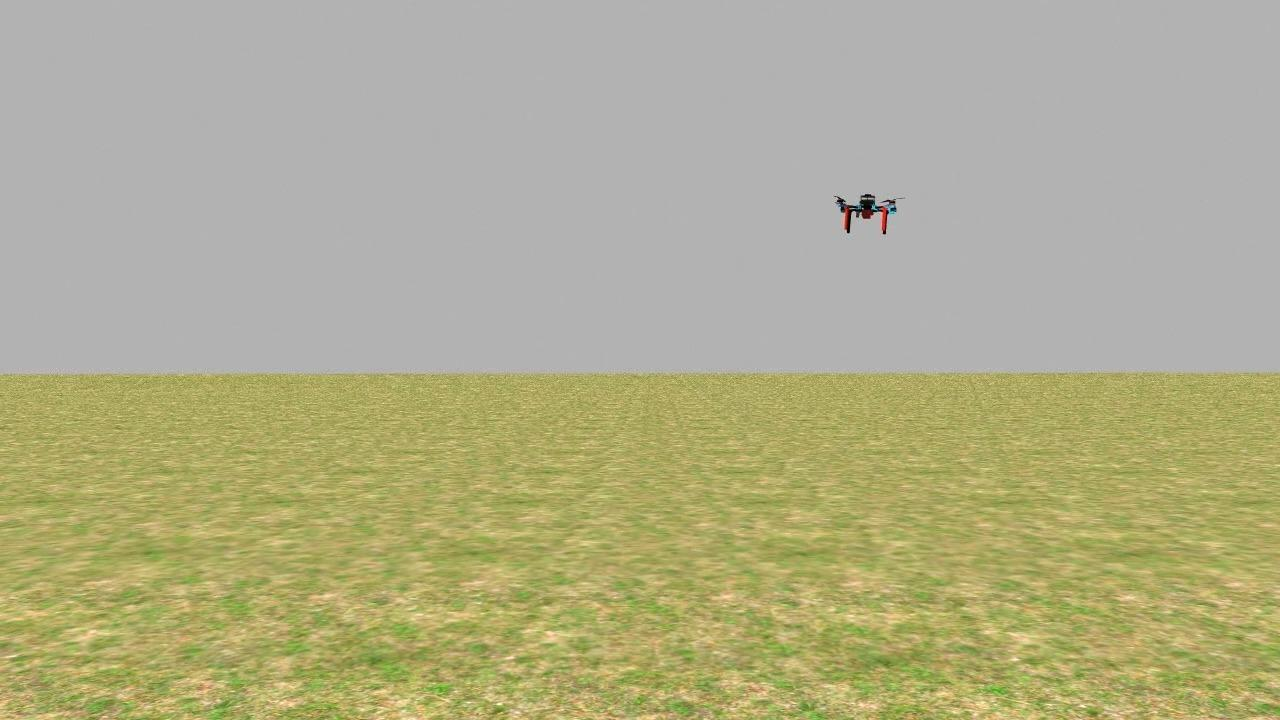UAV: (825, 185, 909, 236)
